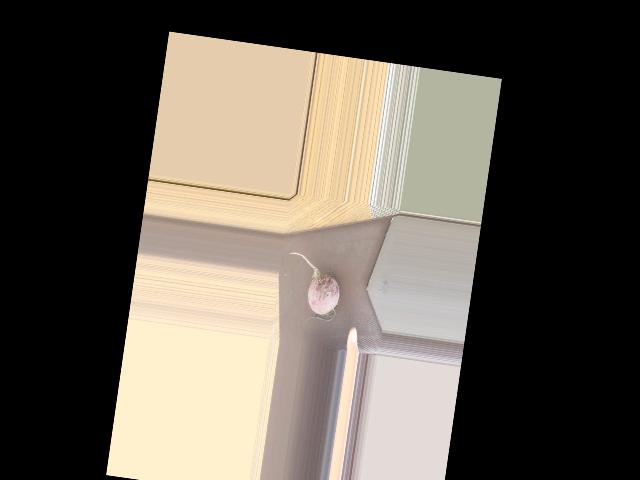beet: (281, 251, 344, 327)
